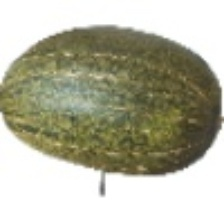honeydew: (6, 37, 187, 199)
